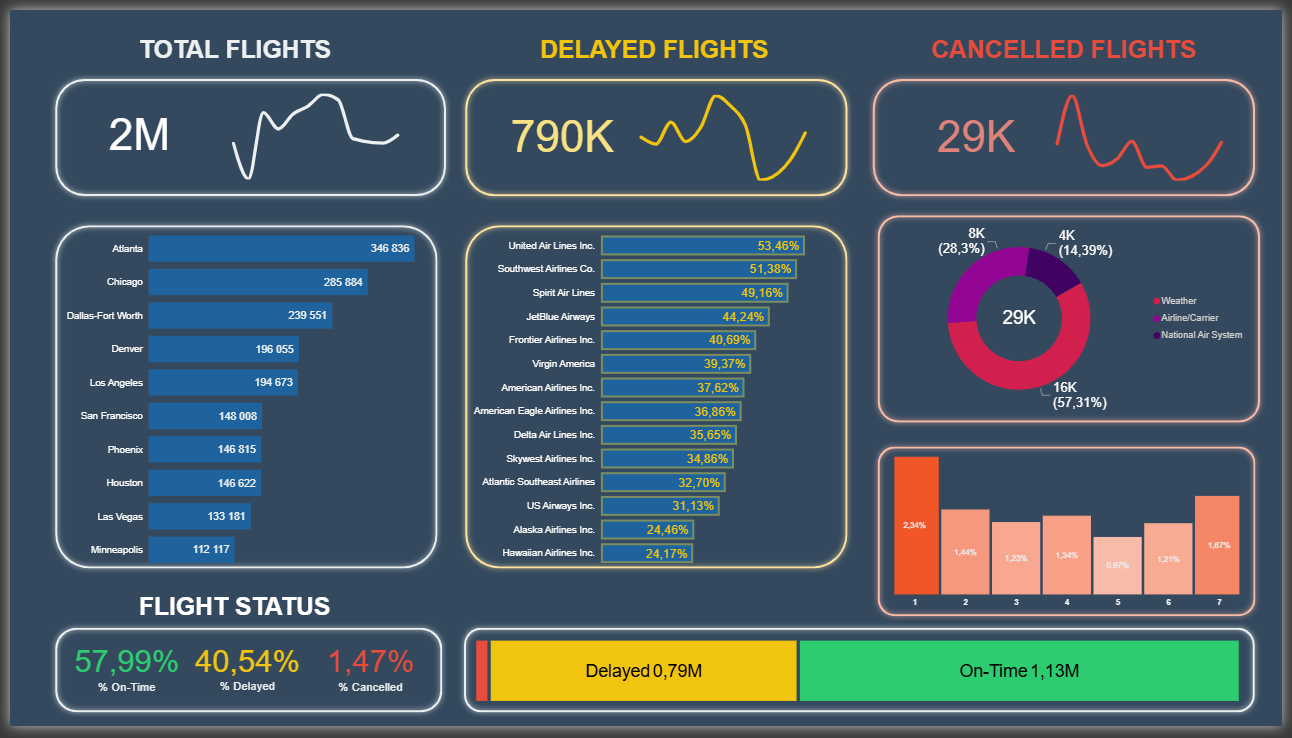

This screenshot's page, from the dashboard's own definition file:
{"tool":"powerbi","page":{"name":"Dashboard","canvas":[1920,1080],"ordinal":0},"visuals":[{"type":"shape","box":[678.6,96.4,592.9,192.9],"z":0},{"type":"shape","box":[60.7,316.1,592.9,533.9],"z":1000},{"type":"shape","box":[678.6,316.1,592.9,533.9],"z":2000},{"type":"shape","box":[1301.8,301.8,592.9,328.6],"z":3000},{"type":"shape","box":[1302,650,586,272],"z":4000},{"type":"shape","box":[60.4,924.5,600,143.4],"z":5000},{"type":"shape","box":[677.4,924.5,1209.4,143.4],"z":6000},{"type":"shape","box":[1294.6,96.4,592.9,192.9],"z":7000},{"type":"shape","box":[60.4,96.2,605.7,192.5],"z":8000},{"type":"textbox","box":[800,37.5,398.2,42.9],"z":9000},{"type":"textbox","box":[194.6,37.5,367.9,42.9],"z":10000},{"type":"textbox","box":[1391.1,37.5,441.1,42.9],"z":11000},{"type":"textbox","box":[194.6,878.6,350,44.6],"z":12000},{"type":"cardVisual","fields":{"Data":["flights.Total Flights"]},"box":[86.8,92.5,217.9,192.9],"z":13000},{"type":"lineChart","fields":{"Category":["flights.MONTH"],"Y":["flights.Total Flights"]},"box":[311.3,103.8,300,167.9],"z":14000},{"type":"cardVisual","fields":{"Data":["flights.Delayed Flights"]},"box":[721.4,96.4,226.8,192.9],"z":15000},{"type":"lineChart","fields":{"Category":["flights.MONTH"],"Y":["flights.Delayed Flights"]},"box":[926.8,105.4,300,167.9],"z":16000},{"type":"cardVisual","fields":{"Data":["flights.Cancelled Flights"]},"box":[1342.9,96.4,230.4,192.9],"z":17000},{"type":"lineChart","fields":{"Category":["flights.MONTH"],"Y":["flights.Cancelled Flights"]},"box":[1555.4,105.4,300,167.9],"z":18000},{"type":"cardVisual","fields":{"Data":["flights.% Cancelled"]},"box":[462.3,924.5,164.2,141.5],"z":19000},{"type":"cardVisual","fields":{"Data":["flights.% Delayed"]},"box":[275.5,922.6,166,143.4],"z":20000},{"type":"cardVisual","fields":{"Data":["flights.% On-Time"]},"box":[94.3,924.5,164.2,141.5],"z":21000},{"type":"clusteredBarChart","fields":{"Category":["airports.CITY"],"Y":["flights.Total Flights"]},"box":[60.7,316.1,566.1,533.9],"z":22000},{"type":"clusteredBarChart","fields":{"Category":["airlines.AIRLINE"],"Y":["flights.% Delayed"]},"box":[667.9,316.1,585.7,533.9],"z":23000},{"type":"donutChart","fields":{"Category":["cancellation_codes.CANCELLATION_DESCRIPTION"],"Y":["flights.Cancelled Flights"]},"box":[1305.7,301.9,581.1,328.3],"z":24000},{"type":"clusteredColumnChart","fields":{"Category":["flights.DAY_OF_WEEK"],"Y":["flights.% Cancelled"]},"box":[1318.9,650.9,552.8,269.8],"z":25000},{"type":"barChart","fields":{"Series":["flights.Status"],"Y":["flights.Total Flights"]},"box":[703.8,935.8,1150.9,115.1],"z":26000}]}

Visuals, with their boxes in screenshot pixels (x1, y1, x2, y2), scaled from the page's 1920x1080 canvas onto the 1292x738 screenshot:
shape: (x1=457, y1=66, x2=856, y2=198)
shape: (x1=41, y1=216, x2=440, y2=581)
shape: (x1=457, y1=216, x2=856, y2=581)
shape: (x1=876, y1=206, x2=1275, y2=431)
shape: (x1=876, y1=444, x2=1270, y2=630)
shape: (x1=41, y1=632, x2=444, y2=730)
shape: (x1=456, y1=632, x2=1270, y2=730)
shape: (x1=871, y1=66, x2=1270, y2=198)
shape: (x1=41, y1=66, x2=448, y2=197)
textbox: (x1=538, y1=26, x2=806, y2=55)
textbox: (x1=131, y1=26, x2=379, y2=55)
textbox: (x1=936, y1=26, x2=1233, y2=55)
textbox: (x1=131, y1=600, x2=366, y2=631)
cardVisual - flights.Total Flights: (x1=58, y1=63, x2=205, y2=195)
lineChart - flights.MONTH x flights.Total Flights: (x1=209, y1=71, x2=411, y2=186)
cardVisual - flights.Delayed Flights: (x1=485, y1=66, x2=638, y2=198)
lineChart - flights.MONTH x flights.Delayed Flights: (x1=624, y1=72, x2=826, y2=187)
cardVisual - flights.Cancelled Flights: (x1=904, y1=66, x2=1059, y2=198)
lineChart - flights.MONTH x flights.Cancelled Flights: (x1=1047, y1=72, x2=1249, y2=187)
cardVisual - flights.% Cancelled: (x1=311, y1=632, x2=422, y2=728)
cardVisual - flights.% Delayed: (x1=185, y1=630, x2=297, y2=728)
cardVisual - flights.% On-Time: (x1=63, y1=632, x2=174, y2=728)
clusteredBarChart - airports.CITY x flights.Total Flights: (x1=41, y1=216, x2=422, y2=581)
clusteredBarChart - airlines.AIRLINE x flights.% Delayed: (x1=449, y1=216, x2=844, y2=581)
donutChart - cancellation_codes.CANCELLATION_DESCRIPTION x flights.Cancelled Flights: (x1=879, y1=206, x2=1270, y2=431)
clusteredColumnChart - flights.DAY_OF_WEEK x flights.% Cancelled: (x1=888, y1=445, x2=1259, y2=629)
barChart - flights.Status x flights.Total Flights: (x1=474, y1=639, x2=1248, y2=718)
